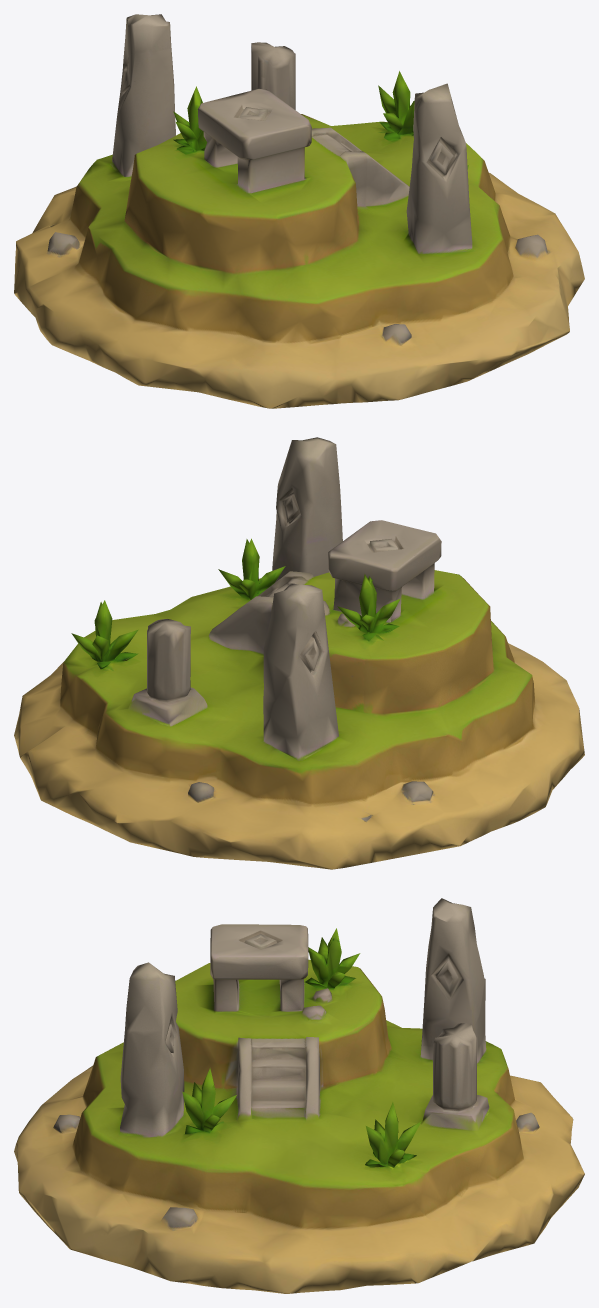
File: island07.glb
3 views of the same model, one above another, from view 1: azimuth 30°, elevation 25°; view 2: azimuth 150°, elevation 25°; view 3: azimuth 270°, elevation 25° (orthographic).
Visible parts, largest first — view 1: tripo_node_3fdb273b-c2e2-4fa9-80c1-87ba01892992; view 2: tripo_node_3fdb273b-c2e2-4fa9-80c1-87ba01892992; view 3: tripo_node_3fdb273b-c2e2-4fa9-80c1-87ba01892992.
Boxes of the visible parts, x1,y1,x2,y2 form: tripo_node_3fdb273b-c2e2-4fa9-80c1-87ba01892992: [14, 14, 584, 408]; tripo_node_3fdb273b-c2e2-4fa9-80c1-87ba01892992: [14, 437, 584, 869]; tripo_node_3fdb273b-c2e2-4fa9-80c1-87ba01892992: [14, 898, 584, 1293].
Size of the model in its own units: 0.9753 by 0.4593 by 0.9797.
1 material, 1 textured.
